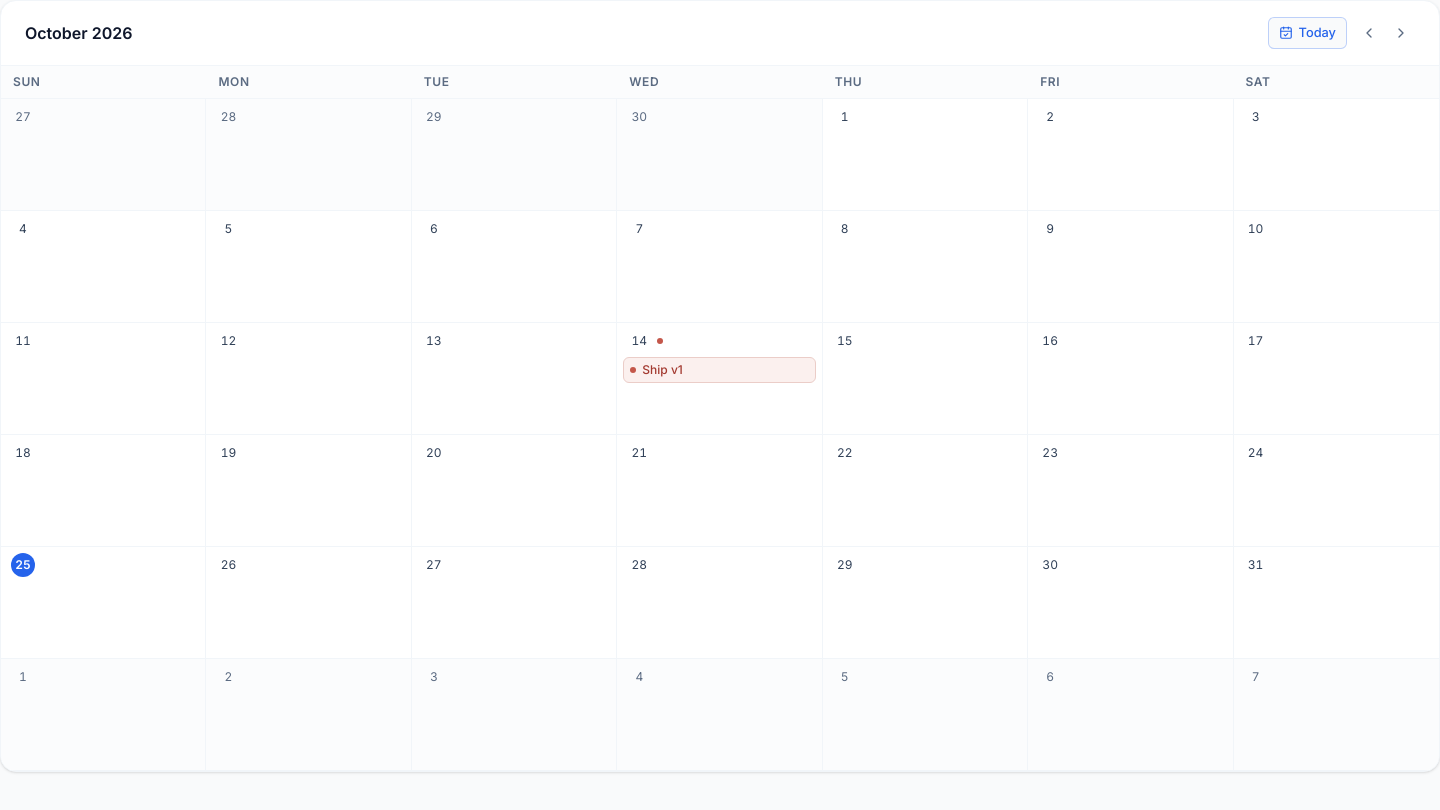
Scenario: CalendarView › places tasks on their due day and navigates months
Expected: the heading "October 2026" is shown, x1=25 y1=21 x2=132 y2=45
Expected: the button "Ship v1" is shown, x1=623 y1=357 x2=816 y2=383
Click the button named "Next month": (1401,33) x1=1387 y1=19 x2=1415 y2=47
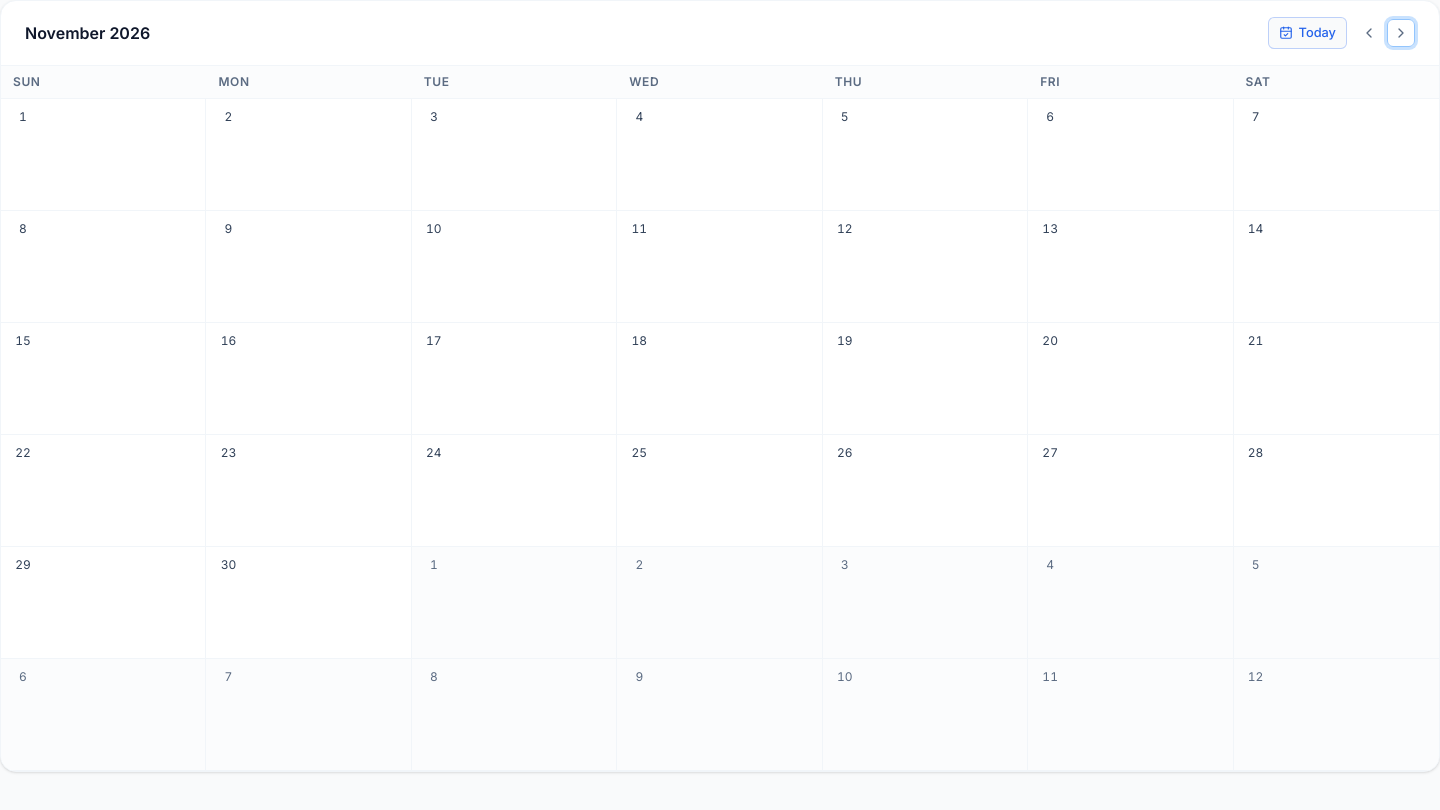
Expected: the heading "November 2026" is shown, x1=25 y1=21 x2=150 y2=45
